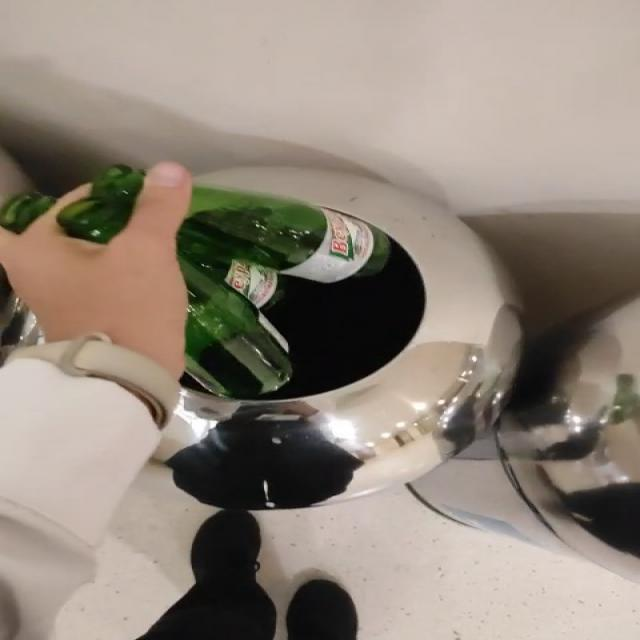bin: (155, 167, 519, 510)
glass: (177, 186, 391, 399), (56, 164, 143, 243), (0, 193, 53, 232)
